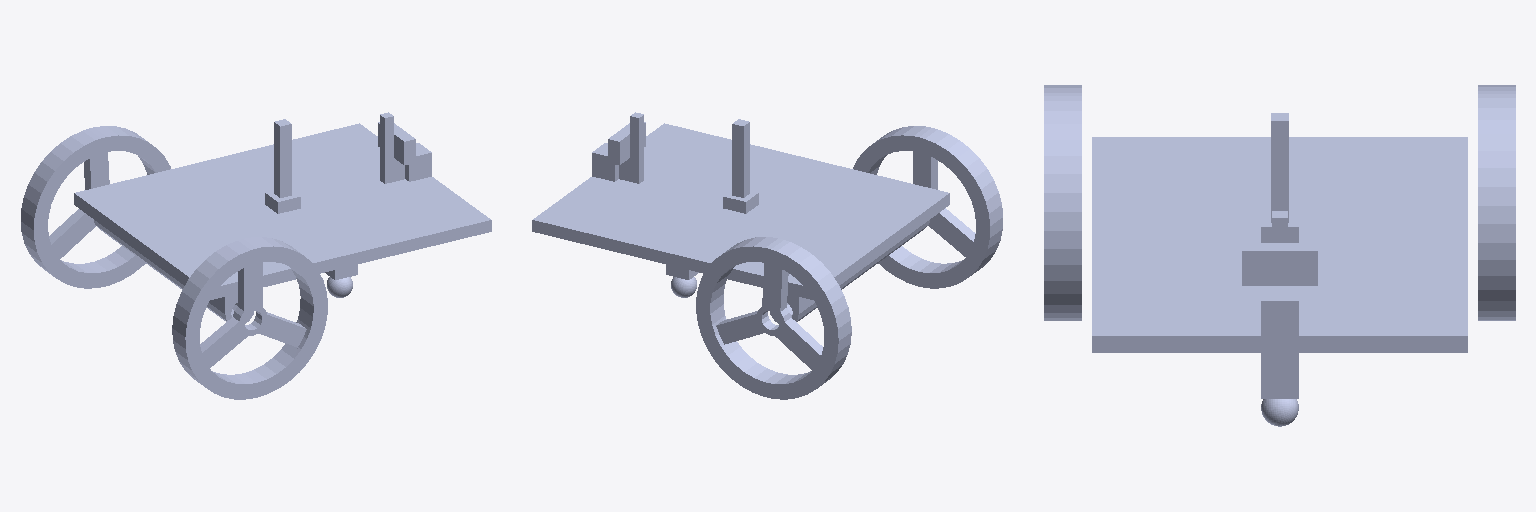
The robot description file, URDF, robot "pauli":
<?xml version="1.0" encoding="utf-8"?>
<robot
  name="pauli">
  <link
    name="base_link">
    <inertial>
      <origin
        xyz="0.0827987345980127 1.83243031281616E-17 0.0784992660554831"
        rpy="0 0 0" />
      <mass
        value="0.613776529879719" />
      <inertia
        ixx="0.00203019817083969"
        ixy="7.73666733199254E-20"
        ixz="-7.84328420502032E-05"
        iyy="0.00345682018038741"
        iyz="-2.30076090362524E-20"
        izz="0.00536735194207918" />
    </inertial>
    <visual>
      <origin
        xyz="0 0 0"
        rpy="0 0 0" />
      <geometry>
        <mesh
          filename="package://pauli/meshes/base_link.STL" />
      </geometry>
      <material
        name="">
        <color
          rgba="0.792156862745098 0.819607843137255 0.933333333333333 1" />
      </material>
    </visual>
    <collision>
      <origin
        xyz="0 0 0"
        rpy="0 0 0" />
      <geometry>
        <mesh
          filename="package://pauli/meshes/base_link.STL" />
      </geometry>
    </collision>
  </link>
  <link
    name="fir">
    <inertial>
      <origin
        xyz="0 -3.20178454062125E-19 -1.38777878078145E-17"
        rpy="0 0 0" />
      <mass
        value="0.00312500000000001" />
      <inertia
        ixx="1.69270833333334E-07"
        ixy="-5.24666324745101E-24"
        ixz="-9.92616735063682E-26"
        iyy="1.69270833333334E-07"
        iyz="-9.45191713277259E-24"
        izz="3.25520833333334E-07" />
    </inertial>
    <visual>
      <origin
        xyz="0 0 0"
        rpy="0 0 0" />
      <geometry>
        <mesh
          filename="package://pauli/meshes/fir.STL" />
      </geometry>
      <material
        name="">
        <color
          rgba="0.792156862745098 0.819607843137255 0.933333333333333 1" />
      </material>
    </visual>
    <collision>
      <origin
        xyz="0 0 0"
        rpy="0 0 0" />
      <geometry>
        <mesh
          filename="package://pauli/meshes/fir.STL" />
      </geometry>
    </collision>
  </link>
  <joint
    name="jfir"
    type="fixed">
    <origin
      xyz="0.2075 0 0.07473891288"
      rpy="0 0 0" />
    <parent
      link="base_link" />
    <child
      link="fir" />
    <axis
      xyz="0 0 0" />
  </joint>
  <link
    name="rir">
    <inertial>
      <origin
        xyz="0 1.38777878078145E-17 0"
        rpy="0 0 0" />
      <mass
        value="0.003125" />
      <inertia
        ixx="1.69270833333333E-07"
        ixy="2.67874169569172E-25"
        ixz="4.03664138925878E-24"
        iyy="1.69270833333333E-07"
        iyz="-1.18011100724232E-24"
        izz="3.25520833333333E-07" />
    </inertial>
    <visual>
      <origin
        xyz="0 0 0"
        rpy="0 0 0" />
      <geometry>
        <mesh
          filename="package://pauli/meshes/rir.STL" />
      </geometry>
      <material
        name="">
        <color
          rgba="0.792156862745098 0.819607843137255 0.933333333333333 1" />
      </material>
    </visual>
    <collision>
      <origin
        xyz="0 0 0"
        rpy="0 0 0" />
      <geometry>
        <mesh
          filename="package://pauli/meshes/rir.STL" />
      </geometry>
    </collision>
  </link>
  <joint
    name="jrir"
    type="fixed">
    <origin
      xyz="0.095 -0.0875 0.07473891288"
      rpy="0 0 0" />
    <parent
      link="base_link" />
    <child
      link="rir" />
    <axis
      xyz="0 0 0" />
  </joint>
  <link
    name="bir">
    <inertial>
      <origin
        xyz="0 -7.1506521407208E-18 0"
        rpy="0 0 0" />
      <mass
        value="0.003125" />
      <inertia
        ixx="1.69270833333333E-07"
        ixy="-1.07612006644712E-23"
        ixz="-5.61379909052655E-24"
        iyy="1.69270833333334E-07"
        iyz="-1.22091858412827E-23"
        izz="3.25520833333334E-07" />
    </inertial>
    <visual>
      <origin
        xyz="0 0 0"
        rpy="0 0 0" />
      <geometry>
        <mesh
          filename="package://pauli/meshes/bir.STL" />
      </geometry>
      <material
        name="">
        <color
          rgba="0.792156862745098 0.819607843137255 0.933333333333333 1" />
      </material>
    </visual>
    <collision>
      <origin
        xyz="0 0 0"
        rpy="0 0 0" />
      <geometry>
        <mesh
          filename="package://pauli/meshes/bir.STL" />
      </geometry>
    </collision>
  </link>
  <joint
    name="jbir"
    type="fixed">
    <origin
      xyz="-0.0255 0 0.07473891288"
      rpy="0 0 0" />
    <parent
      link="base_link" />
    <child
      link="bir" />
    <axis
      xyz="0 0 0" />
  </joint>
  <link
    name="lir">
    <inertial>
      <origin
        xyz="-1.38777878078145E-17 0 0"
        rpy="0 0 0" />
      <mass
        value="0.003125" />
      <inertia
        ixx="1.69270833333333E-07"
        ixy="2.67874169569172E-25"
        ixz="4.03664138925878E-24"
        iyy="1.69270833333333E-07"
        iyz="-1.18011100724232E-24"
        izz="3.25520833333333E-07" />
    </inertial>
    <visual>
      <origin
        xyz="0 0 0"
        rpy="0 0 0" />
      <geometry>
        <mesh
          filename="package://pauli/meshes/lir.STL" />
      </geometry>
      <material
        name="">
        <color
          rgba="0.792156862745098 0.819607843137255 0.933333333333333 1" />
      </material>
    </visual>
    <collision>
      <origin
        xyz="0 0 0"
        rpy="0 0 0" />
      <geometry>
        <mesh
          filename="package://pauli/meshes/lir.STL" />
      </geometry>
    </collision>
  </link>
  <joint
    name="jlir"
    type="fixed">
    <origin
      xyz="0.095 0.0875 0.07473891288"
      rpy="0 0 0" />
    <parent
      link="base_link" />
    <child
      link="lir" />
    <axis
      xyz="0 0 0" />
  </joint>
  <link
    name="frir1">
    <inertial>
      <origin
        xyz="-2.77555756156289E-17 0 0"
        rpy="0 0 0" />
      <mass
        value="0.00312500000000001" />
      <inertia
        ixx="1.69270833333334E-07"
        ixy="-6.1731055335104E-24"
        ixz="-1.47789602776141E-24"
        iyy="1.69270833333334E-07"
        iyz="-8.07328277851754E-24"
        izz="3.25520833333334E-07" />
    </inertial>
    <visual>
      <origin
        xyz="0 0 0"
        rpy="0 0 0" />
      <geometry>
        <mesh
          filename="package://pauli/meshes/frir1.STL" />
      </geometry>
      <material
        name="">
        <color
          rgba="0.792156862745098 0.819607843137255 0.933333333333333 1" />
      </material>
    </visual>
    <collision>
      <origin
        xyz="0 0 0"
        rpy="0 0 0" />
      <geometry>
        <mesh
          filename="package://pauli/meshes/frir1.STL" />
      </geometry>
    </collision>
  </link>
  <joint
    name="jfrir1"
    type="fixed">
    <origin
      xyz="0.1725 -0.025 0.07473891288"
      rpy="0 0 0" />
    <parent
      link="base_link" />
    <child
      link="frir1" />
    <axis
      xyz="0 0 0" />
  </joint>
  <link
    name="frir2">
    <inertial>
      <origin
        xyz="0 0 0"
        rpy="0 0 0" />
      <mass
        value="0.003125" />
      <inertia
        ixx="1.69270833333334E-07"
        ixy="5.78241158658936E-24"
        ixz="4.03664138925877E-24"
        iyy="1.69270833333334E-07"
        iyz="-5.31601407000745E-24"
        izz="3.25520833333334E-07" />
    </inertial>
    <visual>
      <origin
        xyz="0 0 0"
        rpy="0 0 0" />
      <geometry>
        <mesh
          filename="package://pauli/meshes/frir2.STL" />
      </geometry>
      <material
        name="">
        <color
          rgba="0.792156862745098 0.819607843137255 0.933333333333333 1" />
      </material>
    </visual>
    <collision>
      <origin
        xyz="0 0 0"
        rpy="0 0 0" />
      <geometry>
        <mesh
          filename="package://pauli/meshes/frir2.STL" />
      </geometry>
    </collision>
  </link>
  <joint
    name="jfrir2"
    type="fixed">
    <origin
      xyz="0.1375 -0.05 0.07473891288"
      rpy="0 0 0" />
    <parent
      link="base_link" />
    <child
      link="frir2" />
    <axis
      xyz="0 0 0" />
  </joint>
  <link
    name="flir1">
    <inertial>
      <origin
        xyz="-2.77555756156289E-17 -3.46944695195361E-18 0"
        rpy="0 0 0" />
      <mass
        value="0.00312500000000001" />
      <inertia
        ixx="1.69270833333334E-07"
        ixy="3.09131732708352E-24"
        ixz="2.65800703500372E-24"
        iyy="1.69270833333334E-07"
        iyz="-1.22091858412827E-23"
        izz="3.25520833333334E-07" />
    </inertial>
    <visual>
      <origin
        xyz="0 0 0"
        rpy="0 0 0" />
      <geometry>
        <mesh
          filename="package://pauli/meshes/flir1.STL" />
      </geometry>
      <material
        name="">
        <color
          rgba="0.792156862745098 0.819607843137255 0.933333333333333 1" />
      </material>
    </visual>
    <collision>
      <origin
        xyz="0 0 0"
        rpy="0 0 0" />
      <geometry>
        <mesh
          filename="package://pauli/meshes/flir1.STL" />
      </geometry>
    </collision>
  </link>
  <joint
    name="jflir1"
    type="fixed">
    <origin
      xyz="0.1725 0.025 0.07473891288"
      rpy="0 0 0" />
    <parent
      link="base_link" />
    <child
      link="flir1" />
    <axis
      xyz="0 0 0" />
  </joint>
  <link
    name="flir2">
    <inertial>
      <origin
        xyz="0 -6.93889390390723E-18 0"
        rpy="0 0 0" />
      <mass
        value="0.003125" />
      <inertia
        ixx="1.69270833333333E-07"
        ixy="2.67874169569172E-25"
        ixz="4.03664138925877E-24"
        iyy="1.69270833333334E-07"
        iyz="-3.93737971575241E-24"
        izz="3.25520833333334E-07" />
    </inertial>
    <visual>
      <origin
        xyz="0 0 0"
        rpy="0 0 0" />
      <geometry>
        <mesh
          filename="package://pauli/meshes/flir2.STL" />
      </geometry>
      <material
        name="">
        <color
          rgba="0.792156862745098 0.819607843137255 0.933333333333333 1" />
      </material>
    </visual>
    <collision>
      <origin
        xyz="0 0 0"
        rpy="0 0 0" />
      <geometry>
        <mesh
          filename="package://pauli/meshes/flir2.STL" />
      </geometry>
    </collision>
  </link>
  <joint
    name="jflir2"
    type="fixed">
    <origin
      xyz="0.1375 0.05 0.07473891288"
      rpy="0 0 0" />
    <parent
      link="base_link" />
    <child
      link="flir2" />
    <axis
      xyz="0 0 0" />
  </joint>
  <link
    name="cam">
    <inertial>
      <origin
        xyz="-5.55111512312578E-17 -7.27319116376891E-18 -0.01"
        rpy="0 0 0" />
      <mass
        value="0.00800000000000001" />
      <inertia
        ixx="5.33333333333334E-07"
        ixy="-2.34506605395942E-23"
        ixz="-9.96187543624935E-24"
        iyy="5.33333333333335E-07"
        iyz="-3.76873192665008E-24"
        izz="5.33333333333334E-07" />
    </inertial>
    <visual>
      <origin
        xyz="0 0 0"
        rpy="0 0 0" />
      <geometry>
        <mesh
          filename="package://pauli/meshes/cam.STL" />
      </geometry>
      <material
        name="">
        <color
          rgba="0.792156862745098 0.819607843137255 0.933333333333333 1" />
      </material>
    </visual>
    <collision>
      <origin
        xyz="0 0 0"
        rpy="0 0 0" />
      <geometry>
        <mesh
          filename="package://pauli/meshes/cam.STL" />
      </geometry>
    </collision>
  </link>
  <joint
    name="jcam"
    type="fixed">
    <origin
      xyz="0.21 0 0.10723891288"
      rpy="0 0 0" />
    <parent
      link="base_link" />
    <child
      link="cam" />
    <axis
      xyz="0 0 0" />
  </joint>
  <link
    name="scam">
    <inertial>
      <origin
        xyz="0 -8.65365889033751E-19 -0.0133333333333333"
        rpy="0 0 0" />
      <mass
        value="0.00960000000000001" />
      <inertia
        ixx="1.92853333333333E-06"
        ixy="-2.25800168136325E-24"
        ixz="-9.30578189122159E-24"
        iyy="9.33333333333334E-07"
        iyz="1.43310709548107E-22"
        izz="1.1552E-06" />
    </inertial>
    <visual>
      <origin
        xyz="0 0 0"
        rpy="0 0 0" />
      <geometry>
        <mesh
          filename="package://pauli/meshes/scam.STL" />
      </geometry>
      <material
        name="">
        <color
          rgba="0.792156862745098 0.819607843137255 0.933333333333333 1" />
      </material>
    </visual>
    <collision>
      <origin
        xyz="0 0 0"
        rpy="0 0 0" />
      <geometry>
        <mesh
          filename="package://pauli/meshes/scam.STL" />
      </geometry>
    </collision>
  </link>
  <joint
    name="jscam"
    type="fixed">
    <origin
      xyz="0.195 0 0.12723891288"
      rpy="0 0 0" />
    <parent
      link="base_link" />
    <child
      link="scam" />
    <axis
      xyz="0 0 0" />
  </joint>
  <link
    name="dcam">
    <inertial>
      <origin
        xyz="-2.77555756156289E-17 -5.93812236253732E-18 -0.0275"
        rpy="0 0 0" />
      <mass
        value="0.00352" />
      <inertia
        ixx="9.06106666666667E-07"
        ixy="-1.67509398279336E-24"
        ixz="-9.17247099671904E-24"
        iyy="9.06106666666667E-07"
        iyz="1.76282961029487E-23"
        izz="3.75466666666667E-08" />
    </inertial>
    <visual>
      <origin
        xyz="0 0 0"
        rpy="0 0 0" />
      <geometry>
        <mesh
          filename="package://pauli/meshes/dcam.STL" />
      </geometry>
      <material
        name="">
        <color
          rgba="0.792156862745098 0.819607843137255 0.933333333333333 1" />
      </material>
    </visual>
    <collision>
      <origin
        xyz="0 0 0"
        rpy="0 0 0" />
      <geometry>
        <mesh
          filename="package://pauli/meshes/dcam.STL" />
      </geometry>
    </collision>
  </link>
  <joint
    name="jdcam"
    type="fixed">
    <origin
      xyz="0.186 0 0.14223891288"
      rpy="0 0 0" />
    <parent
      link="base_link" />
    <child
      link="dcam" />
    <axis
      xyz="0 0 0" />
  </joint>
  <link
    name="lidar">
    <inertial>
      <origin
        xyz="0 -2.90048344231063E-17 -0.03"
        rpy="0 0 0" />
      <mass
        value="0.00600000000000001" />
      <inertia
        ixx="1.85E-06"
        ixy="-5.32642551665082E-25"
        ixz="9.84026409256897E-24"
        iyy="1.85E-06"
        iyz="1.01753545033817E-38"
        izz="1E-07" />
    </inertial>
    <visual>
      <origin
        xyz="0 0 0"
        rpy="0 0 0" />
      <geometry>
        <mesh
          filename="package://pauli/meshes/lidar.STL" />
      </geometry>
      <material
        name="">
        <color
          rgba="0.792156862745098 0.819607843137255 0.933333333333333 1" />
      </material>
    </visual>
    <collision>
      <origin
        xyz="0 0 0"
        rpy="0 0 0" />
      <geometry>
        <mesh
          filename="package://pauli/meshes/lidar.STL" />
      </geometry>
    </collision>
  </link>
  <joint
    name="jlidar"
    type="fixed">
    <origin
      xyz="0.095 0 0.15723891288"
      rpy="0 0 0" />
    <parent
      link="base_link" />
    <child
      link="lidar" />
    <axis
      xyz="0 0 0" />
  </joint>
  <link
    name="imu">
    <inertial>
      <origin
        xyz="0 -2.97600751509612E-17 0"
        rpy="0 0 0" />
      <mass
        value="0.004" />
      <inertia
        ixx="1.66666666666667E-07"
        ixy="-5.70471720715814E-23"
        ixz="1.63624177864271E-23"
        iyy="1.66666666666667E-07"
        iyz="4.69058611757858E-24"
        izz="2.66666666666667E-07" />
    </inertial>
    <visual>
      <origin
        xyz="0 0 0"
        rpy="0 0 0" />
      <geometry>
        <mesh
          filename="package://pauli/meshes/imu.STL" />
      </geometry>
      <material
        name="">
        <color
          rgba="0.792156862745098 0.819607843137255 0.933333333333333 1" />
      </material>
    </visual>
    <collision>
      <origin
        xyz="0 0 0"
        rpy="0 0 0" />
      <geometry>
        <mesh
          filename="package://pauli/meshes/imu.STL" />
      </geometry>
    </collision>
  </link>
  <joint
    name="jimu"
    type="fixed">
    <origin
      xyz="0.095 0 0.09223891288"
      rpy="0 0 0" />
    <parent
      link="base_link" />
    <child
      link="imu" />
    <axis
      xyz="0 0 0" />
  </joint>
  <link
    name="lwheel">
    <inertial>
      <origin
        xyz="6.07153216591882E-18 0.0100000000000001 0"
        rpy="0 0 0" />
      <mass
        value="0.109592030403025" />
      <inertia
        ixx="0.000154736253425142"
        ixy="-5.01122927298111E-20"
        ixz="-4.31986803099693E-20"
        iyy="0.000303228108341124"
        iyz="1.04714940044078E-19"
        izz="0.000154736253425142" />
    </inertial>
    <visual>
      <origin
        xyz="0 0 0"
        rpy="0 0 0" />
      <geometry>
        <mesh
          filename="package://pauli/meshes/lwheel.STL" />
      </geometry>
      <material
        name="">
        <color
          rgba="0.792156862745098 0.819607843137255 0.933333333333333 1" />
      </material>
    </visual>
    <collision>
      <origin
        xyz="0 0 0"
        rpy="0 0 0" />
      <geometry>
        <mesh
          filename="package://pauli/meshes/lwheel.STL" />
      </geometry>
    </collision>
  </link>
  <joint
    name="jlwheel"
    type="continuous">
    <origin
      xyz="0 0.105 0.0622389128799999"
      rpy="0 -0.0531729621739823 0" />
    <parent
      link="base_link" />
    <child
      link="lwheel" />
    <axis
      xyz="0 1 0" />
  </joint>
  <link
    name="rwheel">
    <inertial>
      <origin
        xyz="3.45511600618075E-17 -0.01 0"
        rpy="0 0 0" />
      <mass
        value="0.109592030403025" />
      <inertia
        ixx="0.000154736253425143"
        ixy="1.41561894762004E-22"
        ixz="-4.12556330510823E-20"
        iyy="0.000303228108341124"
        iyz="-1.28048089303966E-22"
        izz="0.000154736253425143" />
    </inertial>
    <visual>
      <origin
        xyz="0 0 0"
        rpy="0 0 0" />
      <geometry>
        <mesh
          filename="package://pauli/meshes/rwheel.STL" />
      </geometry>
      <material
        name="">
        <color
          rgba="0.792156862745098 0.819607843137255 0.933333333333333 1" />
      </material>
    </visual>
    <collision>
      <origin
        xyz="0 0 0"
        rpy="0 0 0" />
      <geometry>
        <mesh
          filename="package://pauli/meshes/rwheel.STL" />
      </geometry>
    </collision>
  </link>
  <joint
    name="jrwheel"
    type="continuous">
    <origin
      xyz="0 -0.105 0.06223891288"
      rpy="0 0 0" />
    <parent
      link="base_link" />
    <child
      link="rwheel" />
    <axis
      xyz="0 1 0" />
  </joint>
  <link
    name="caster">
    <inertial>
      <origin
        xyz="-0.0040513 0.0020392 0.008911"
        rpy="0 0 0" />
      <mass
        value="0.0041888" />
      <inertia
        ixx="1.6755E-07"
        ixy="-3.3087E-24"
        ixz="6.6174E-24"
        iyy="1.6755E-07"
        iyz="0"
        izz="1.6755E-07" />
    </inertial>
    <visual>
      <origin
        xyz="0 0 0"
        rpy="0 0 0" />
      <geometry>
        <mesh
          filename="package://pauli/meshes/caster.STL" />
      </geometry>
      <material
        name="">
        <color
          rgba="0.79216 0.81961 0.93333 1" />
      </material>
    </visual>
    <collision>
      <origin
        xyz="0 0 0"
        rpy="0 0 0" />
      <geometry>
        <mesh
          filename="package://pauli/meshes/caster.STL" />
      </geometry>
    </collision>
  </link>
  <joint
    name="jcaster"
    type="continuous">
    <origin
      xyz="0.145 0 0"
      rpy="0.22497 0.41717 -0.14732" />
    <parent
      link="base_link" />
    <child
      link="caster" />
    <axis
      xyz="0.40518 -0.20394 -0.8912" />
  </joint>
  






<gazebo>
  <plugin name="differential_drive_controller" filename="libgazebo_ros_diff_drive.so">

    <!-- Plugin update rate in Hz -->
    <updateRate>60</updateRate>

    <!-- Name of left joint, defaults to `left_joint` -->
    <leftJoint>jlwheel</leftJoint>

    <!-- Name of right joint, defaults to `right_joint` -->
    <rightJoint>jrwheel</rightJoint>

    <!-- The distance from the center of one wheel to the other, in meters, defaults to 0.34 m -->
    <wheelSeparation>0.230</wheelSeparation>

    <!-- Diameter of the wheels, in meters, defaults to 0.15 m -->
    <wheelDiameter>0.125</wheelDiameter>

    <!-- Wheel acceleration, in rad/s^2, defaults to 0.0 rad/s^2 -->
    <wheelAcceleration>1.0</wheelAcceleration>

    <!-- Maximum torque which the wheels can produce, in Nm, defaults to 5 Nm -->
    <wheelTorque>20</wheelTorque>

    <!-- Topic to receive geometry_msgs/Twist message commands, defaults to `cmd_vel` -->
    <commandTopic>cmd_vel</commandTopic>

    <!-- Topic to publish nav_msgs/Odometry messages, defaults to `odom` -->
    <odometryTopic>odom</odometryTopic>

    <!-- Odometry frame, defaults to `odom` -->
    <odometryFrame>odom</odometryFrame>

    <!-- Robot frame to calculate odometry from, defaults to `base_footprint` -->
    <robotBaseFrame>base_footprint</robotBaseFrame>

    <!-- Odometry source, 0 for ENCODER, 1 for WORLD, defaults to WORLD -->
    <odometrySource>1</odometrySource>

    <!-- Set to true to publish transforms for the wheel links, defaults to false -->
    <publishWheelTF>true</publishWheelTF>

    <!-- Set to true to publish transforms for the odometry, defaults to true -->
    <publishOdom>true</publishOdom>

    <!-- Set to true to publish sensor_msgs/JointState on /joint_states for the wheel joints, defaults to false -->
    <publishWheelJointState>true</publishWheelJointState>

    <!-- Set to true to swap right and left wheels, defaults to true -->
    <legacyMode>false</legacyMode>
  </plugin>
</gazebo>



</robot>

--- What the picture shows (computed from the rendered views, not written in the file) ---
3 views of the same robot in one strip: view 1: azimuth 30°, elevation 25°; view 2: azimuth 150°, elevation 25°; view 3: azimuth 270°, elevation 25° (orthographic).
Robot: pauli — 17 links, 16 joints (3 continuous, 13 fixed); root link base_link; default pose: every joint at zero.
Visible links, largest first — view 1: base_link, rwheel, lwheel, lidar, dcam, scam, cam, imu; view 2: base_link, lwheel, rwheel, lidar, dcam, scam, cam, imu; view 3: base_link, lwheel, rwheel, scam, cam, lidar, caster, imu.
Link boxes in pixels (box(x1,y1,x2,y2)): base_link: box(74, 123, 491, 323); rwheel: box(172, 237, 327, 399); lwheel: box(21, 126, 170, 288); lidar: box(274, 119, 291, 197); dcam: box(380, 112, 393, 183); scam: box(378, 122, 415, 181); cam: box(405, 143, 431, 181); imu: box(265, 190, 300, 213); base_link: box(532, 123, 949, 323); lwheel: box(696, 237, 851, 399); rwheel: box(853, 126, 1002, 288); lidar: box(732, 119, 749, 197); dcam: box(630, 112, 643, 183); scam: box(608, 122, 645, 181); cam: box(592, 143, 618, 181); imu: box(723, 190, 758, 213); base_link: box(1092, 137, 1467, 398); lwheel: box(1478, 85, 1515, 320); rwheel: box(1044, 85, 1081, 320); scam: box(1242, 243, 1317, 285); cam: box(1261, 286, 1298, 335); lidar: box(1271, 113, 1288, 222); caster: box(1261, 399, 1298, 426); imu: box(1261, 211, 1298, 242).
Bounding box of the posed robot: 0.2825 × 0.25 × 0.1575 m (x, y, z).
10 mesh visuals loaded from 17 distinct referenced files (10 binary STL); not drawn: 7 (reference not matched to a file when rendering).
